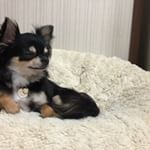puppy: (1, 13, 101, 121)
